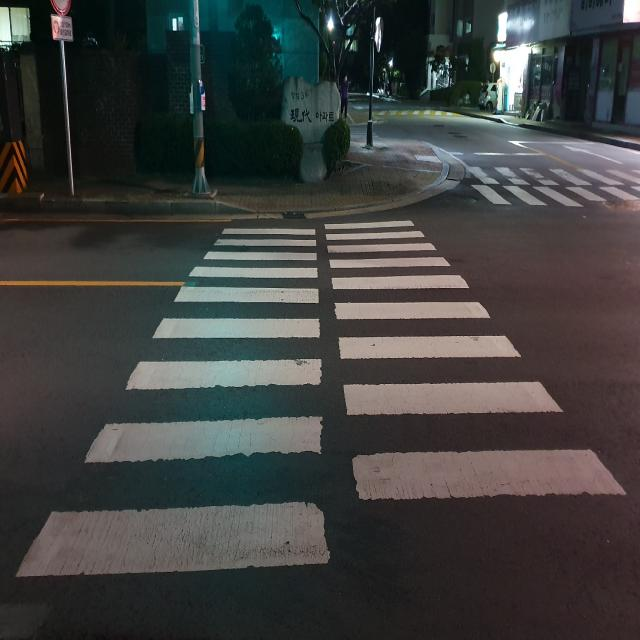횡단보도: (14, 219, 628, 581), (464, 139, 640, 212)
